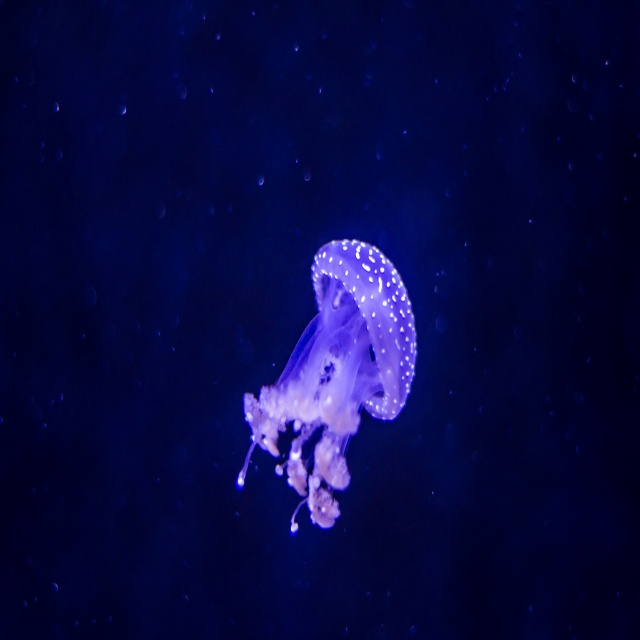Jellyfish: (235, 238, 418, 533)
